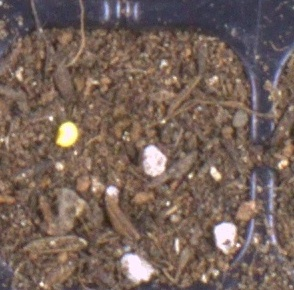chilli seed: (54, 121, 78, 148)
